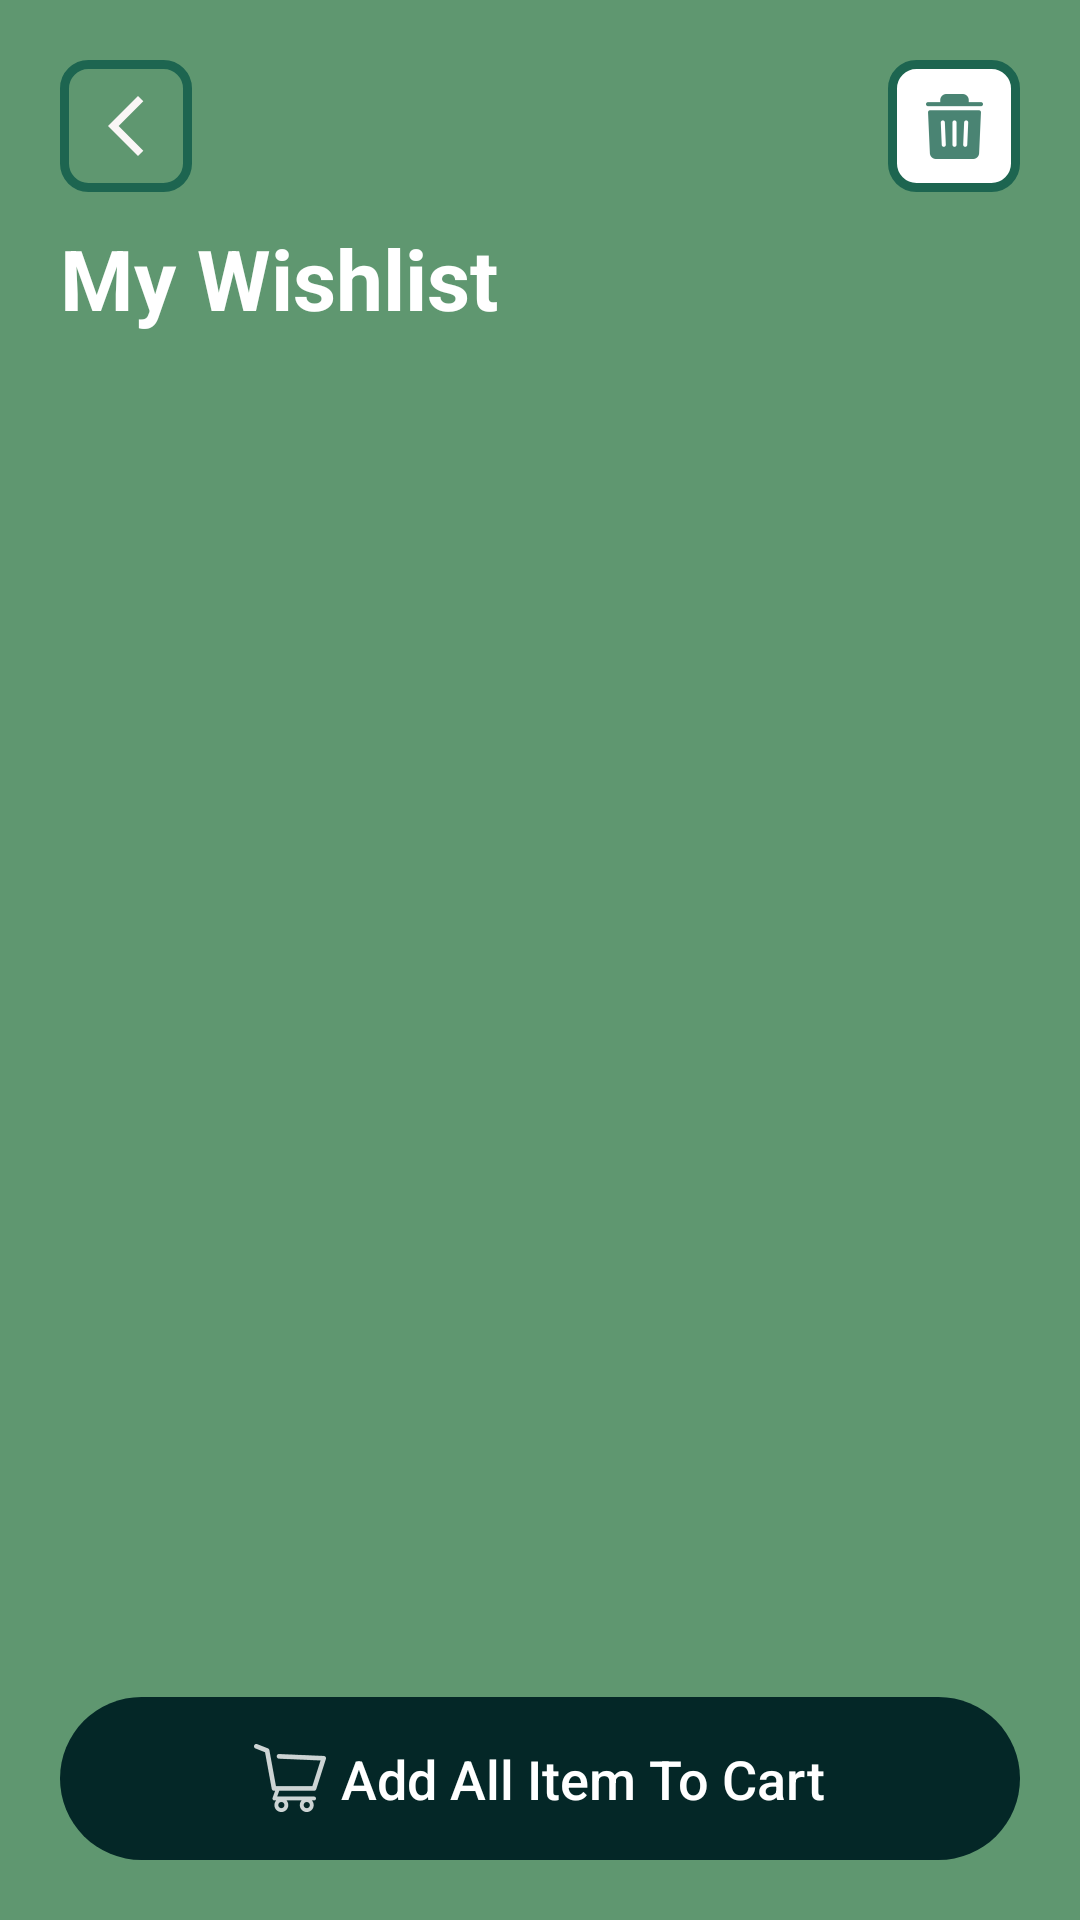

Icon click points for this 1080x1920 phone screenshot, format (x,y):
arrow back: (126,126)
delete bin: (954,126)
